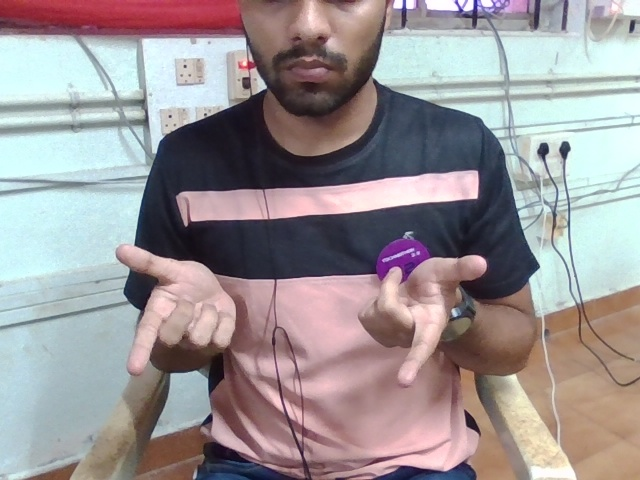go: (101, 237, 497, 386)
